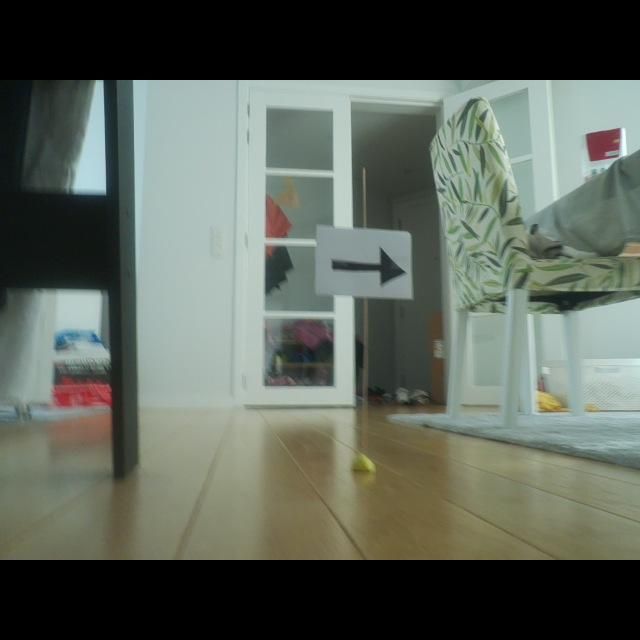jobbra_nyil: (332, 247, 405, 285)
